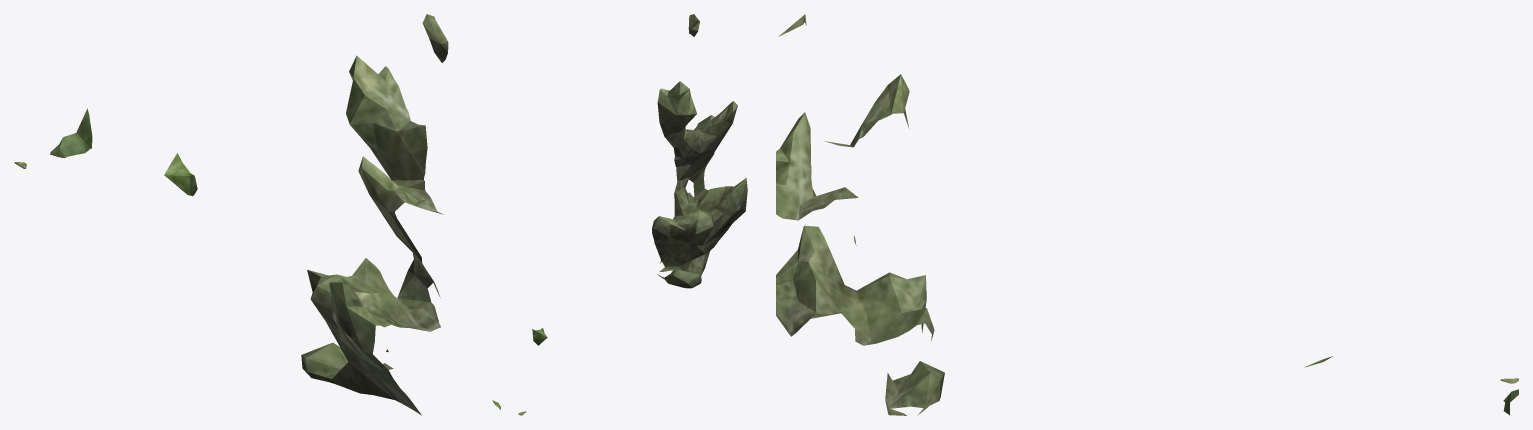
3 views of the same model, side by side, from view 1: azimuth 30°, elevation 25°; view 2: azimuth 150°, elevation 25°; view 3: azimuth 270°, elevation 25° (orthographic). The views are drawn at different scales.
Size of the model in its own units: 1.86 by 6.98 by 11.8.
1 material, 1 textured.
